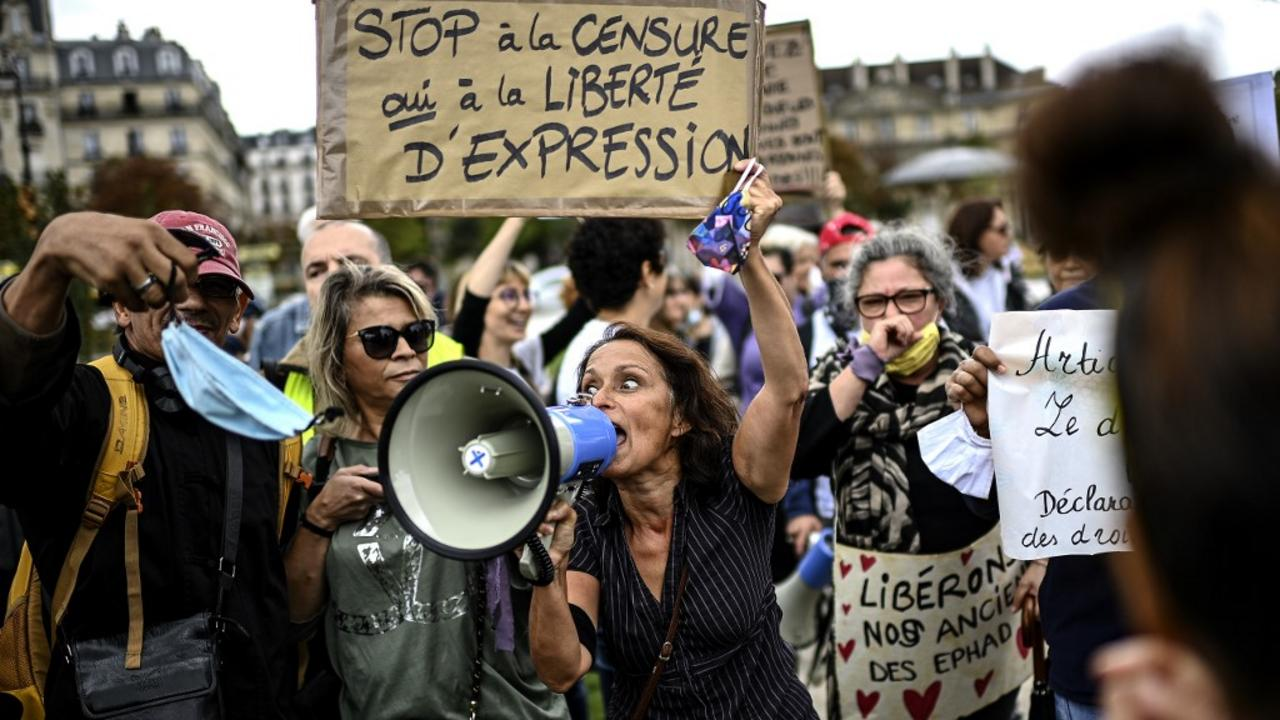with_incorrect_mask: (862, 281, 931, 362)
without_mask: (574, 363, 669, 464), (354, 310, 431, 392), (491, 279, 534, 338)
